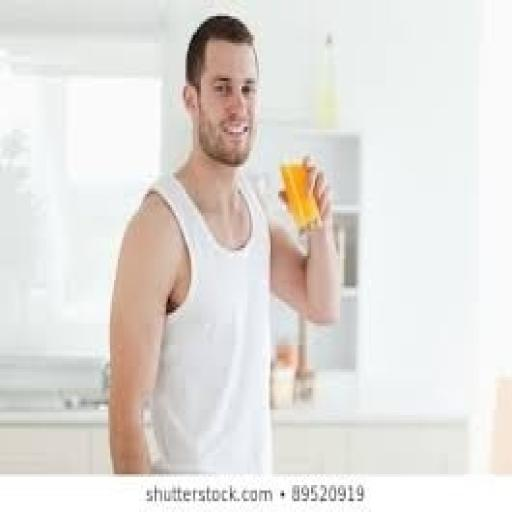drinking: (145, 0, 322, 234)
